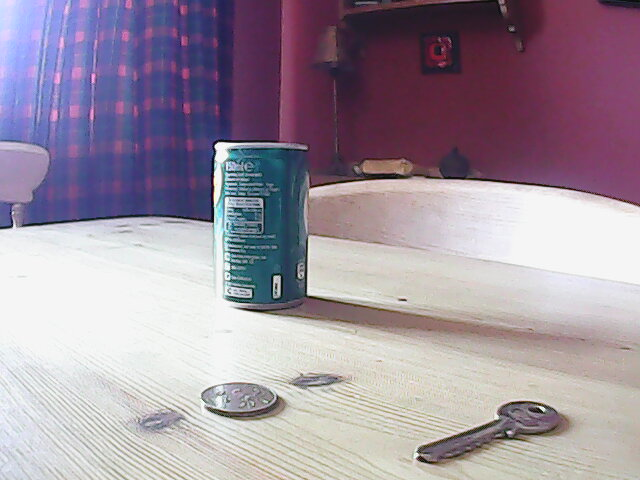Can: (209, 138, 313, 313)
Coin: (197, 379, 281, 419)
Key: (405, 396, 567, 468)
